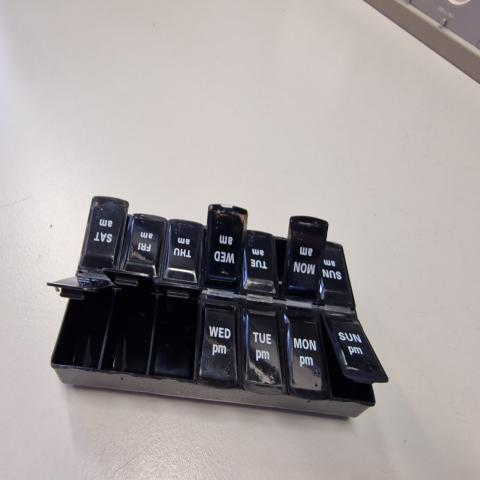Open: (101, 268, 159, 378), (47, 282, 113, 370), (321, 316, 387, 404), (150, 278, 201, 383), (273, 213, 292, 296), (119, 204, 133, 264), (202, 206, 210, 280)
